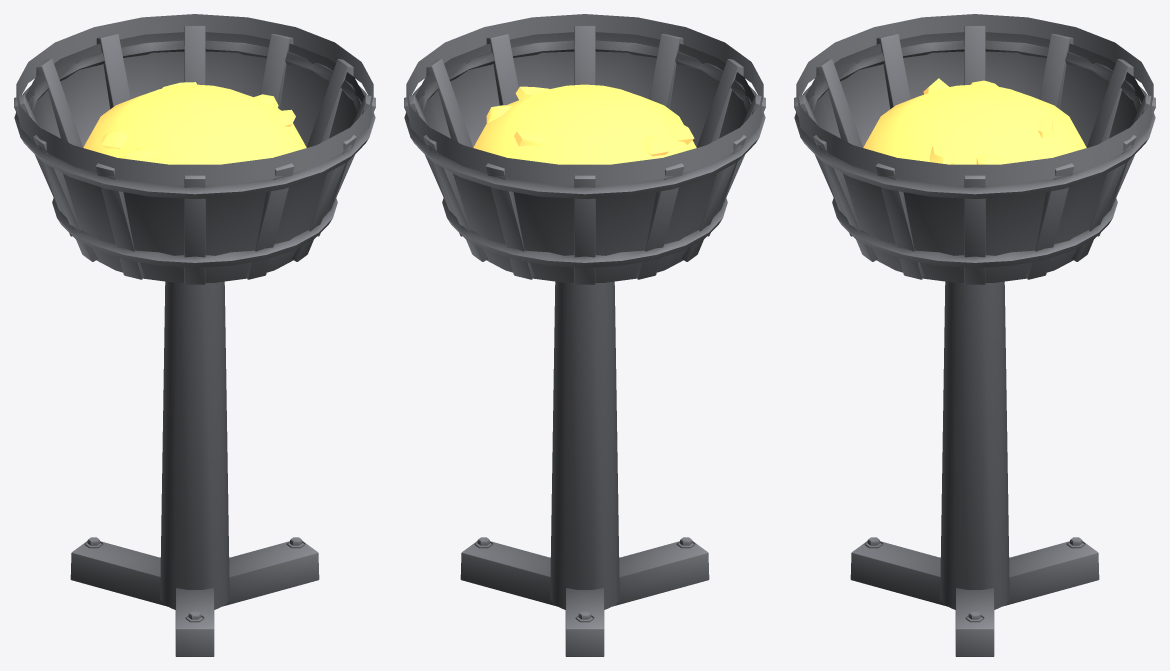
The model's file is rig_brazier.glb.
3 views of the same model, side by side, from view 1: azimuth 30°, elevation 25°; view 2: azimuth 150°, elevation 25°; view 3: azimuth 270°, elevation 25° (orthographic).
Parts seen in each view (by area): view 1: rig_brazier, coals; view 2: rig_brazier, coals; view 3: rig_brazier, coals.
Part boxes in pixels (<box>): rig_brazier: <box>14,14,375,656</box>; coals: <box>83,82,306,164</box>; rig_brazier: <box>404,14,765,656</box>; coals: <box>473,84,696,164</box>; rig_brazier: <box>794,14,1155,656</box>; coals: <box>863,78,1086,164</box>.
Bounding box in the file's own units: 0.9298 × 1.46 × 0.9298.
